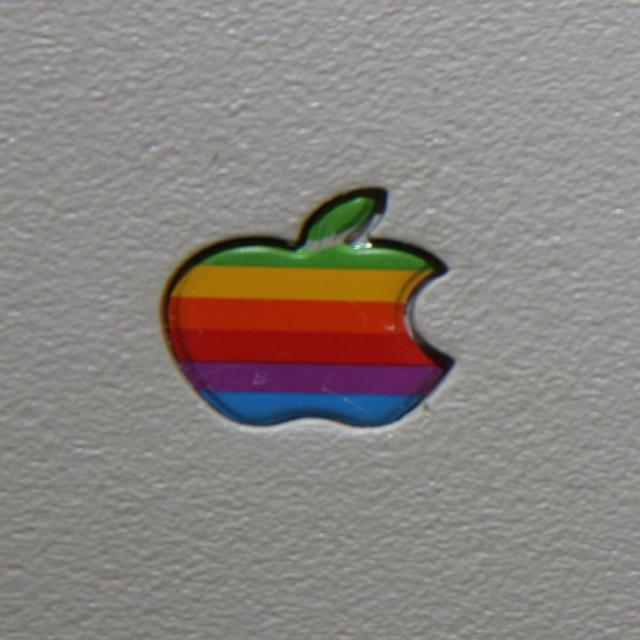Healty Apple: (165, 185, 455, 426)
